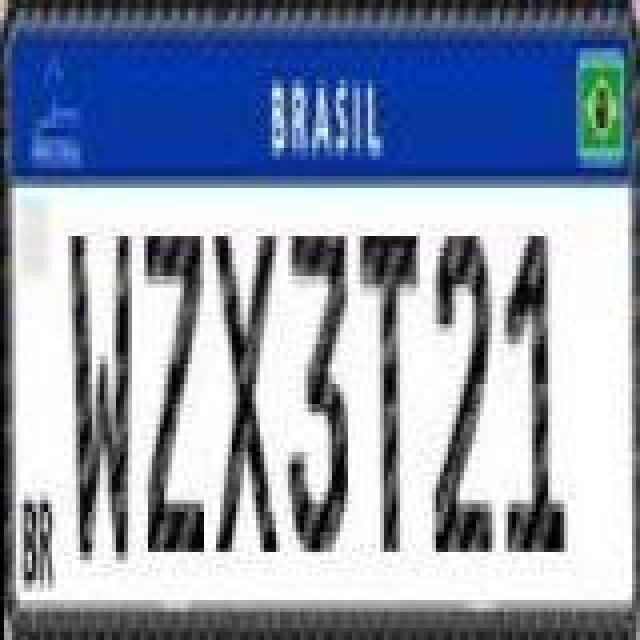1: (502, 224, 566, 560)
2: (428, 230, 496, 554)
3: (282, 224, 346, 560)
T: (360, 230, 420, 554)
W: (66, 232, 130, 568)
X: (212, 224, 280, 560)
Z: (142, 224, 206, 560)
